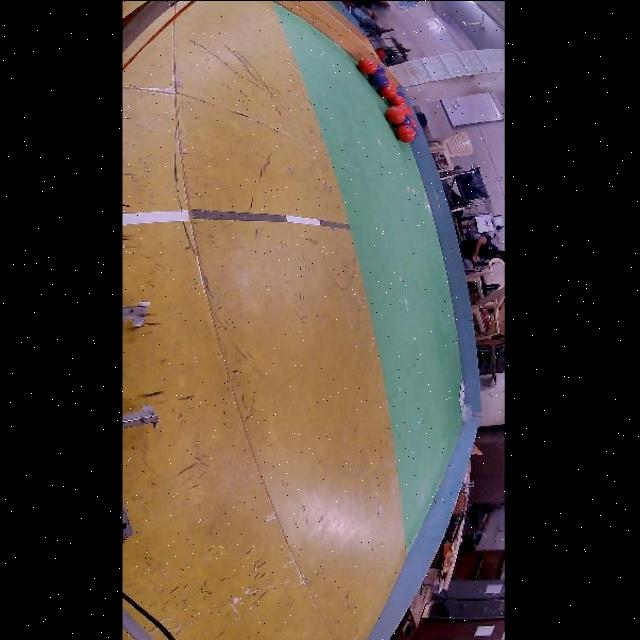P: (368, 72, 389, 87), (376, 63, 385, 74), (401, 113, 410, 124), (410, 124, 417, 135), (396, 90, 404, 95)
R: (378, 80, 397, 98), (385, 106, 405, 123), (396, 124, 416, 141), (357, 58, 377, 74), (388, 94, 405, 106), (398, 103, 409, 115), (410, 117, 417, 127), (409, 106, 412, 115)
